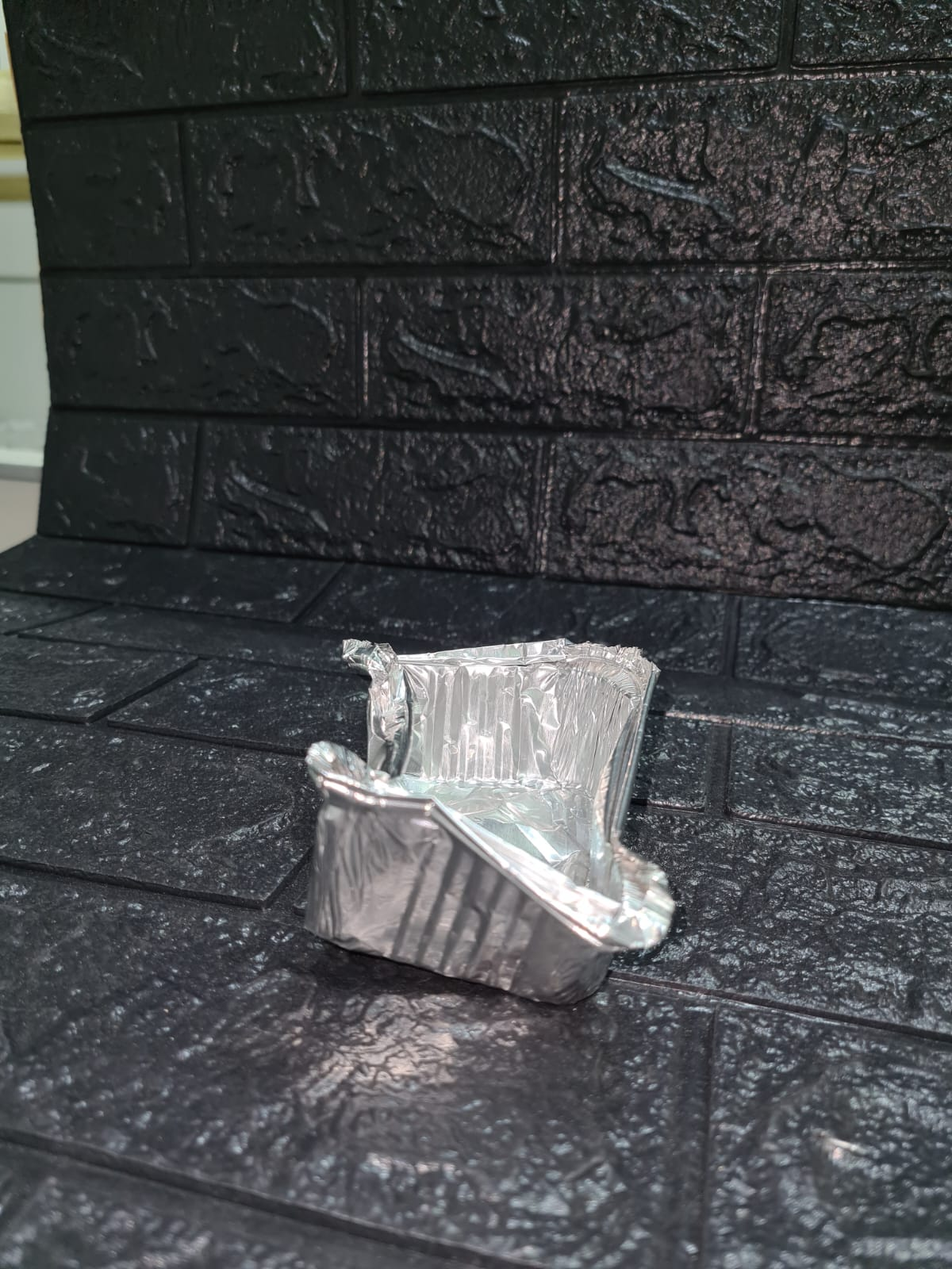Metal: (284, 630, 693, 997)
